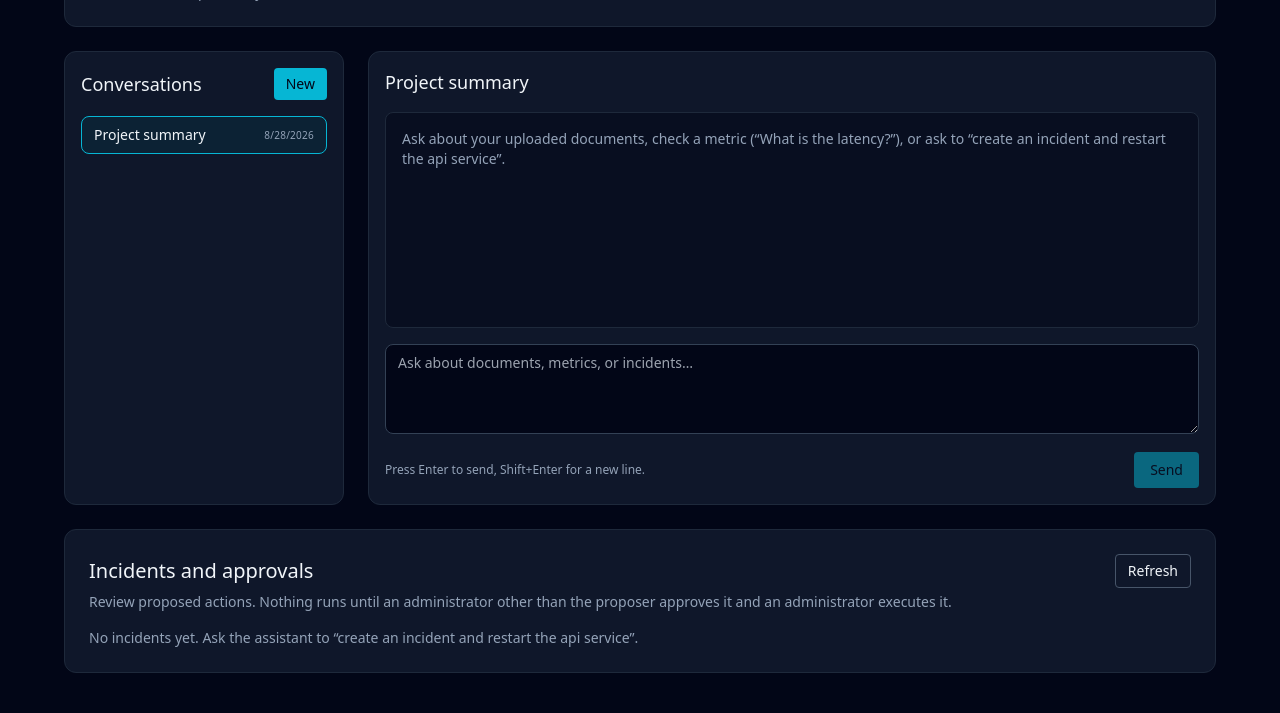
HomePage › does not let an administrator approve their own proposal
The image size is (1280, 713).
(page scrolled)
Check: the heading "Project summary" is shown, box [385, 70, 529, 94]
Step 1. Type "Create an incident and restart the api service" into the text box named "Chat message" → (792, 389), box [385, 344, 1199, 434]
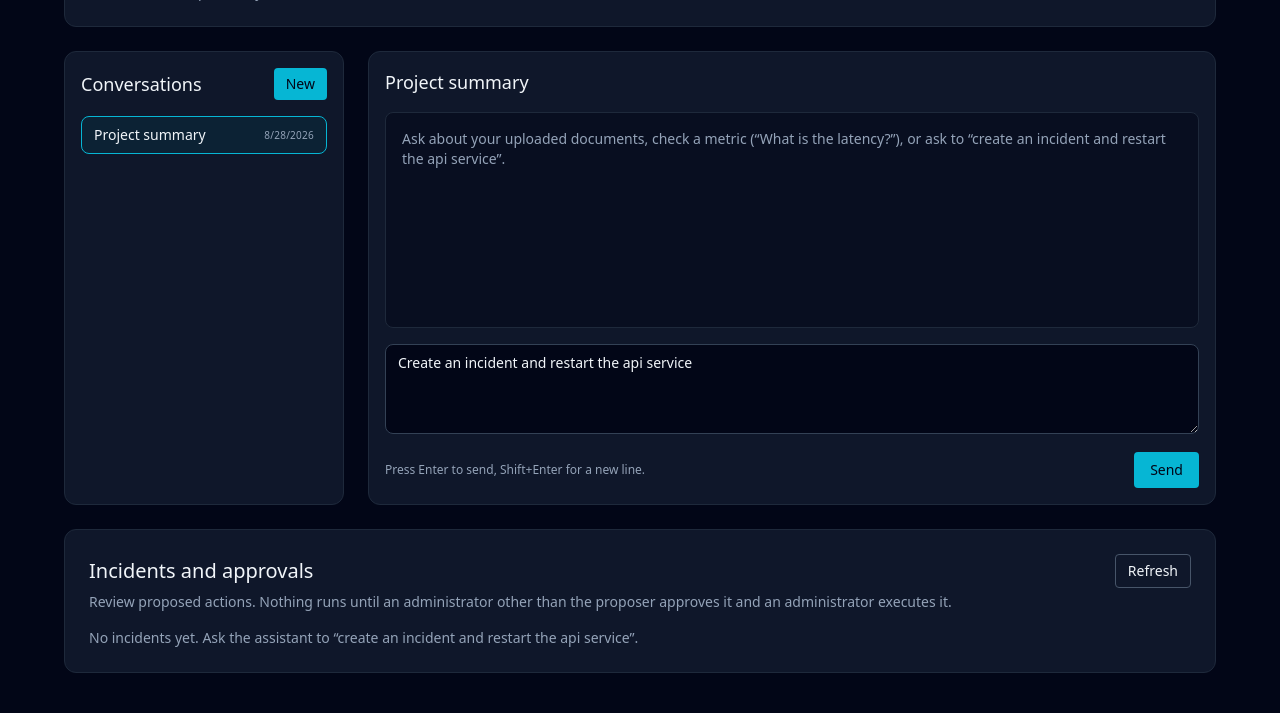
Step 2. Click the button "Send" → click(1167, 470), box [1134, 452, 1199, 488]
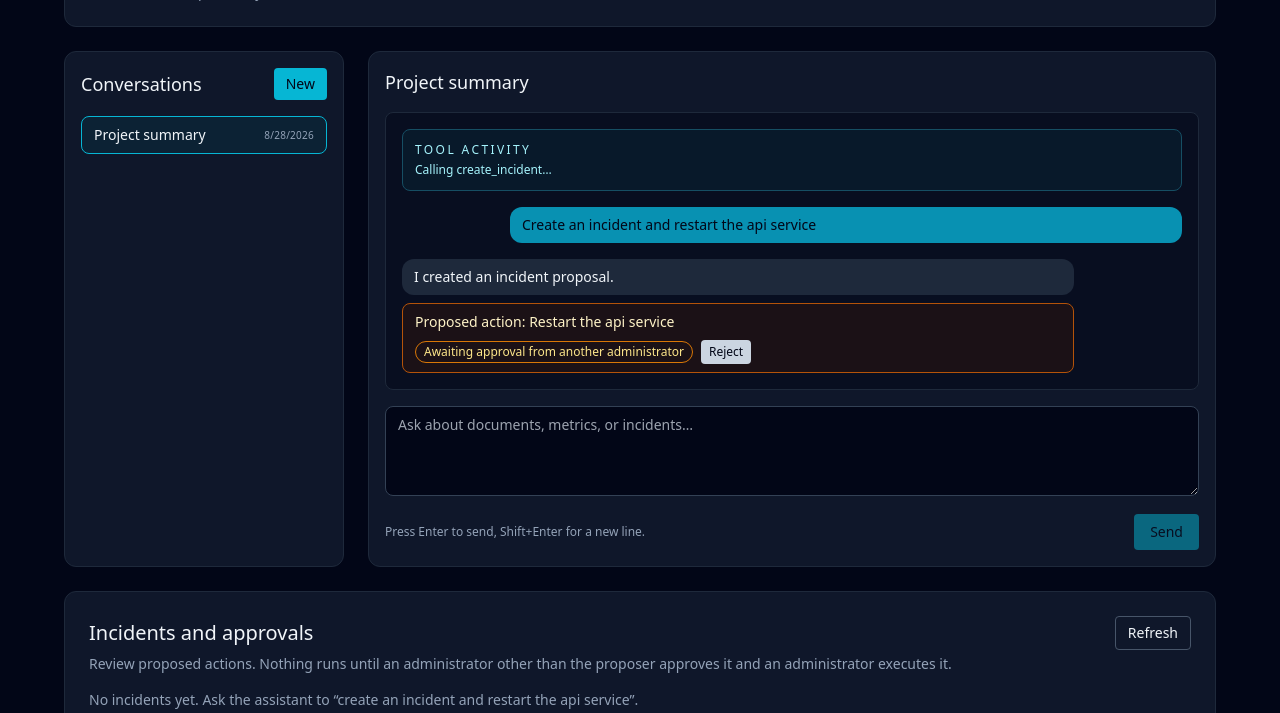
Check: the text "Awaiting approval from another administrator" is shown, box [415, 341, 693, 363]
Check: the button "Reject" is shown, box [701, 340, 751, 364]
